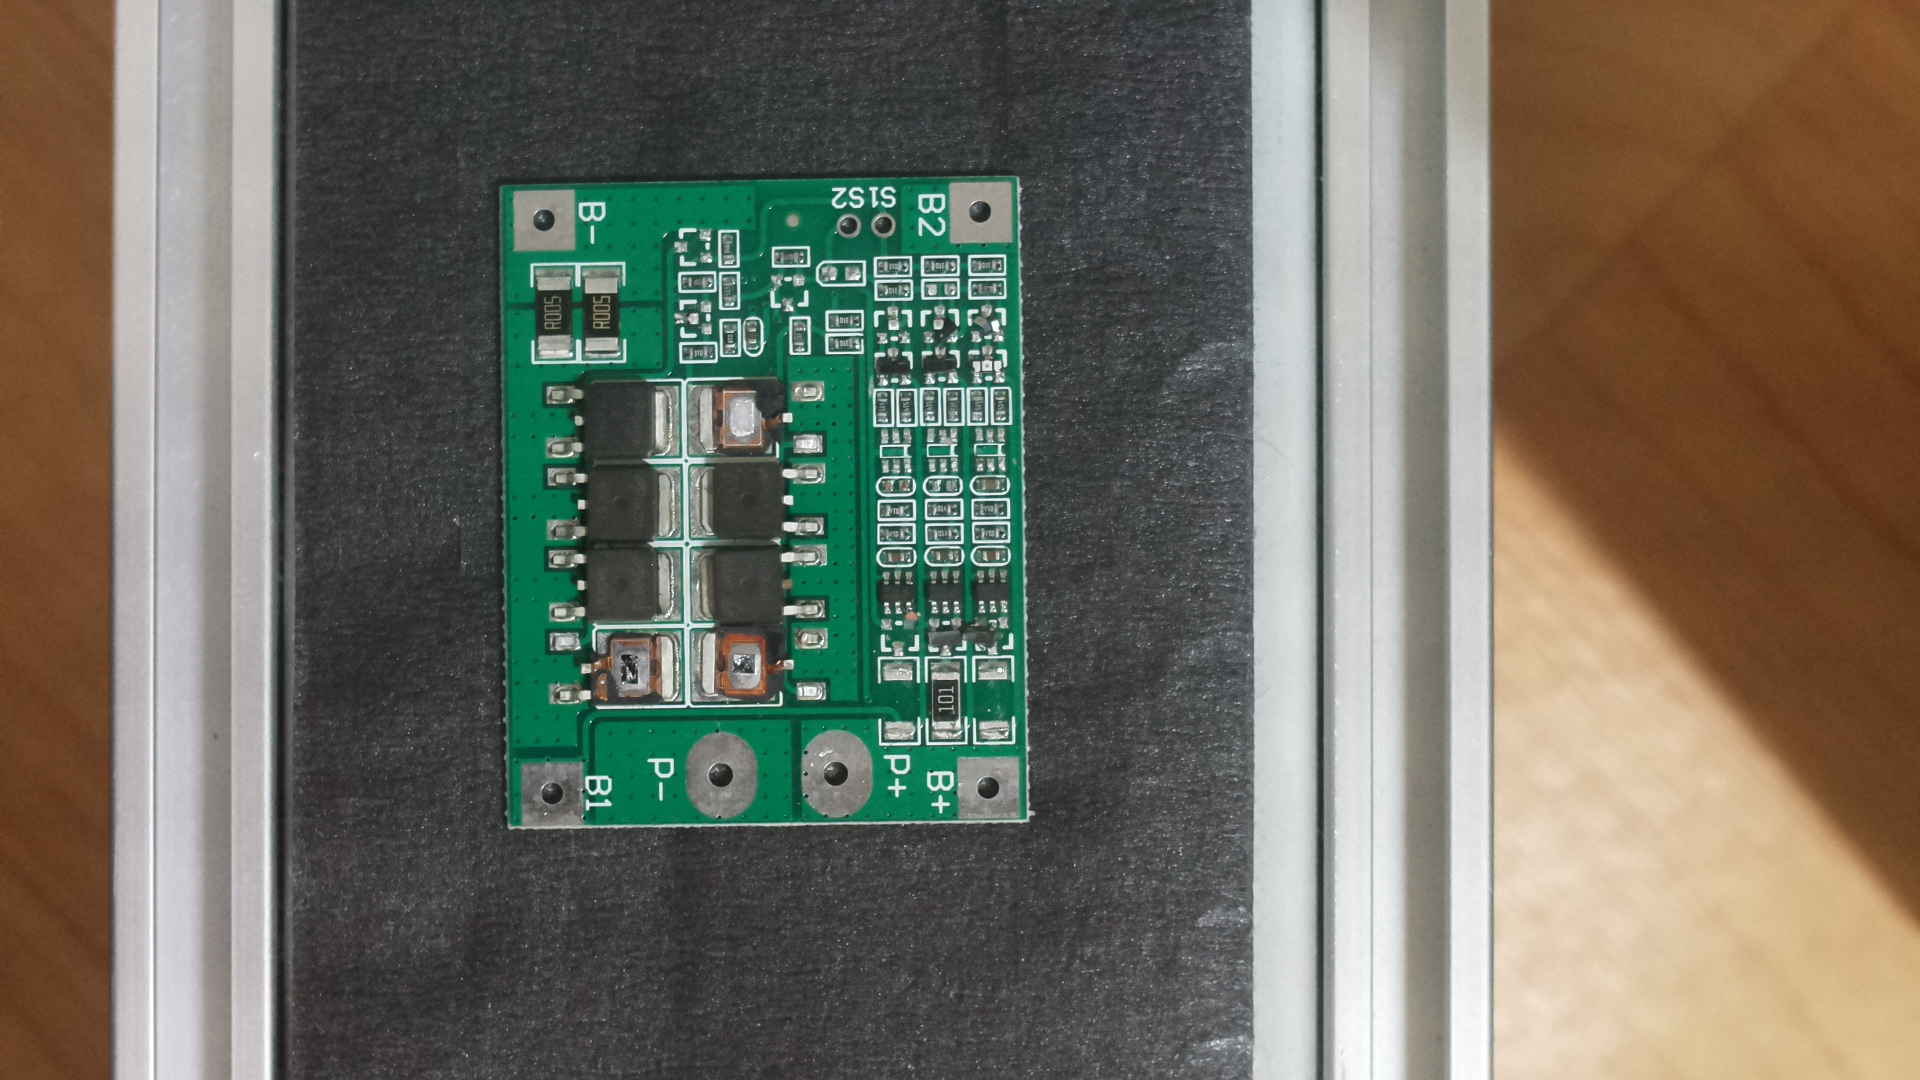C_Missing_part: (477, 157, 1044, 858)
